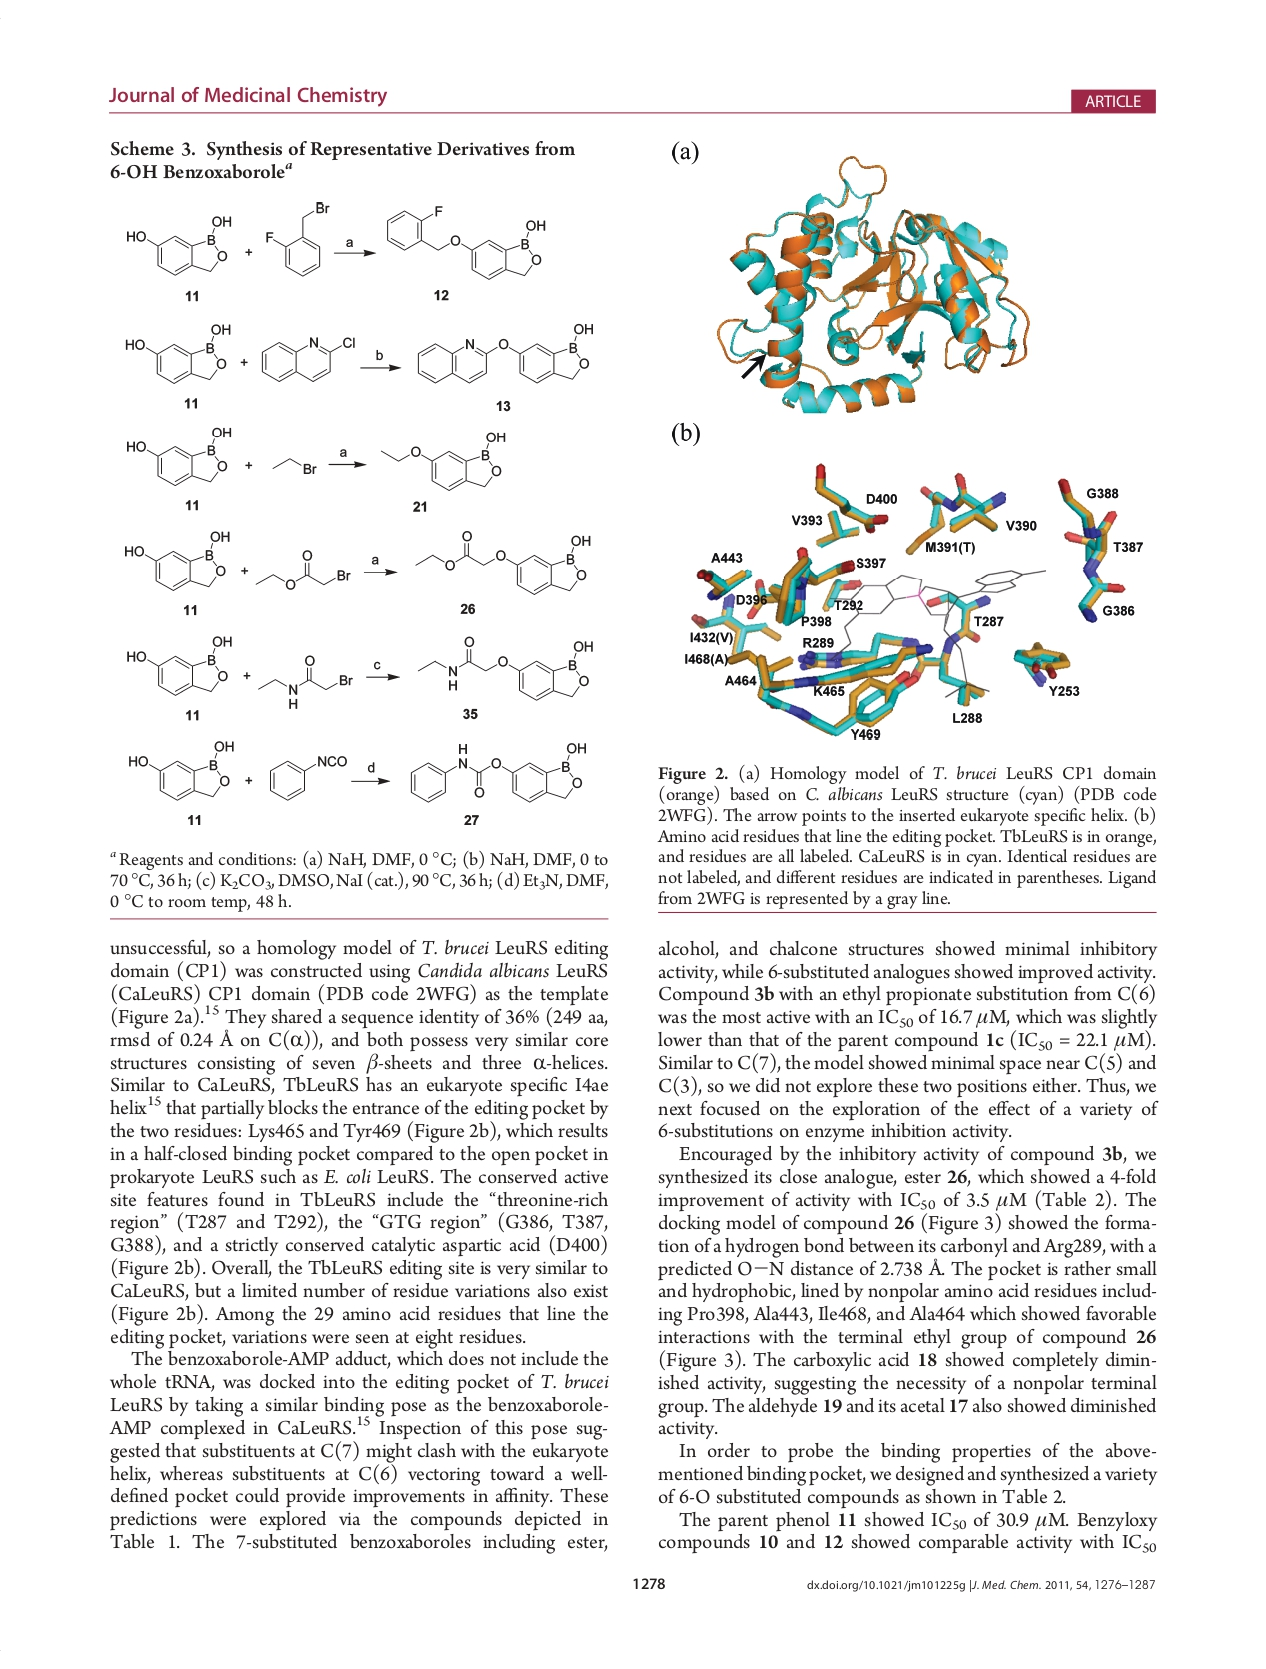exist_molecular: (384, 202, 552, 281), (415, 318, 597, 390), (406, 738, 594, 807), (412, 527, 596, 597), (415, 633, 596, 704), (376, 428, 511, 493), (121, 527, 235, 594), (122, 321, 237, 387), (122, 213, 235, 279), (122, 423, 235, 489), (122, 633, 235, 700), (126, 737, 237, 802), (255, 652, 359, 711), (261, 199, 331, 281), (258, 328, 356, 384), (251, 544, 352, 594), (267, 747, 348, 805), (266, 451, 323, 484)
